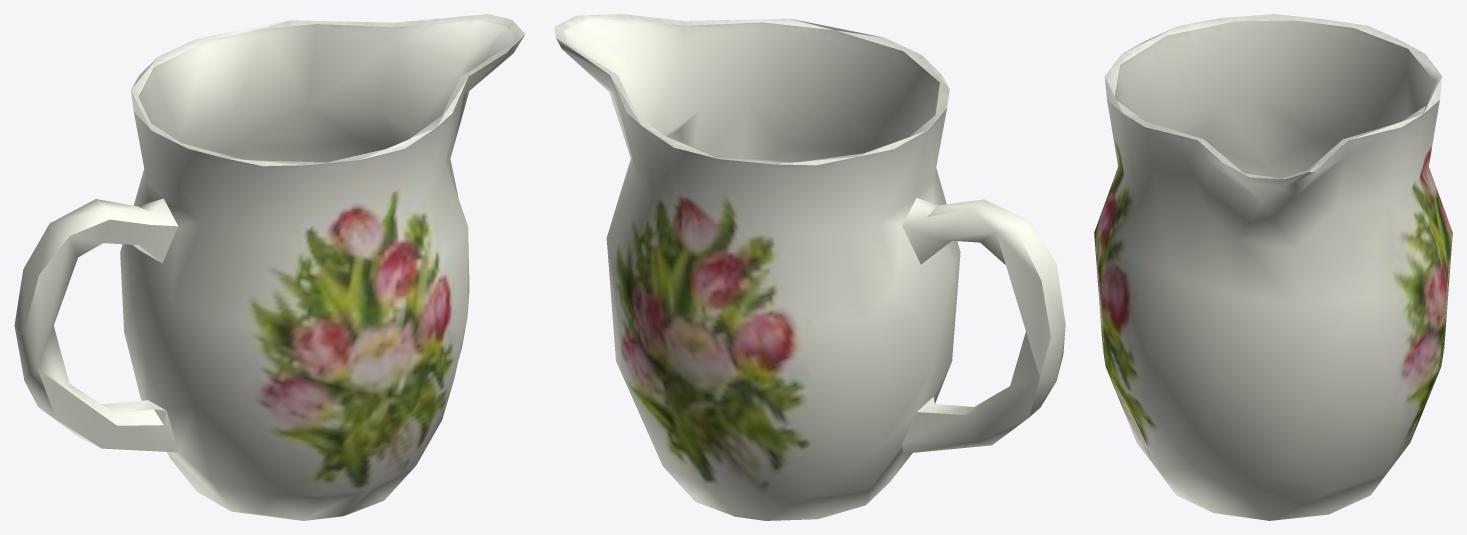
Rendered from jug.glb.
The picture shows the model from 3 angles, left to right: view 1: azimuth 30°, elevation 25°; view 2: azimuth 150°, elevation 25°; view 3: azimuth 270°, elevation 25°; orthographic projection. The views are drawn at different scales.
Parts seen in each view (by area): view 1: jug; view 2: jug; view 3: jug.
Part boxes in pixels (x1,y1,x2,y2): jug: (14, 14, 525, 520); jug: (554, 14, 1065, 520); jug: (1094, 14, 1452, 520).
Size of the model in its own units: 0.2754 by 0.2106 by 0.1677.
1 material, 1 textured.
